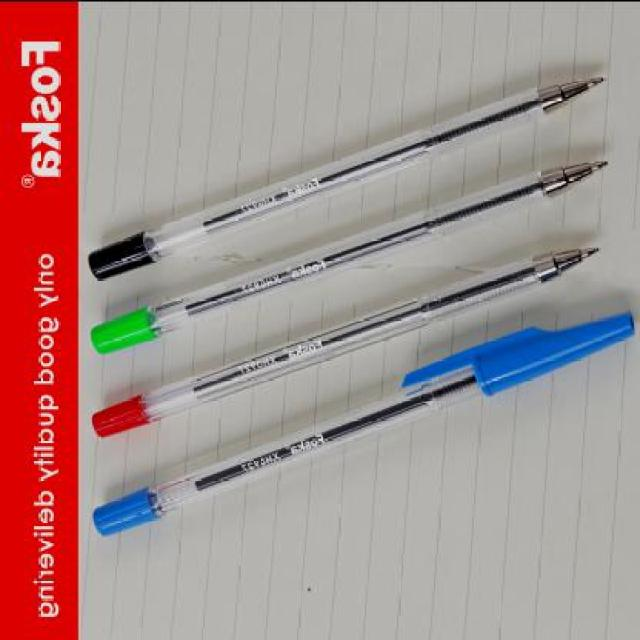pen: (96, 311, 636, 551), (93, 75, 611, 284)
